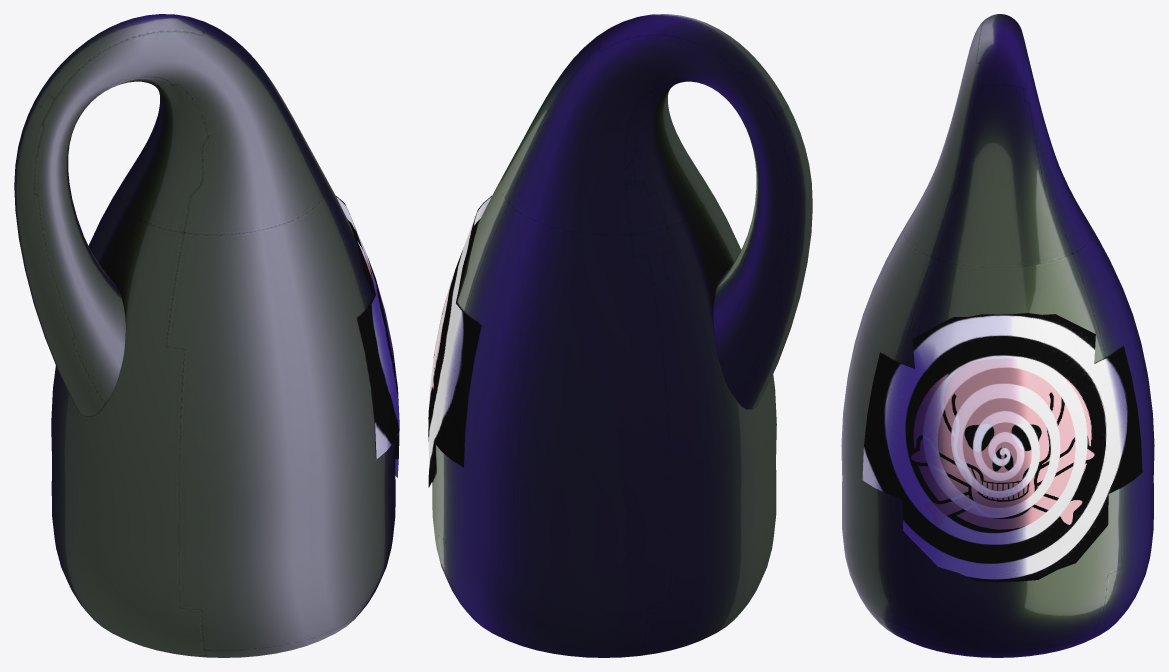
The model's file is bottle-glass.glb.
3 renders of one model, left to right at view 1: azimuth 30°, elevation 25°; view 2: azimuth 150°, elevation 25°; view 3: azimuth 270°, elevation 25°, orthographic. The views are drawn at different scales.
Parts seen in each view (by area): view 1: transparent, Sketchfab Model.006; view 2: transparent, Sketchfab Model.006; view 3: transparent, Sketchfab Model.006.
Boxes of the visible parts, <box> form: transparent: <box>14,14,395,657</box>; Sketchfab Model.006: <box>336,196,399,477</box>; transparent: <box>432,14,812,657</box>; Sketchfab Model.006: <box>428,196,491,487</box>; transparent: <box>841,14,1154,657</box>; Sketchfab Model.006: <box>862,313,1142,582</box>.
Size of the model in its own units: 1.91 by 3.08 by 1.6.
2 materials, 2 textured.
